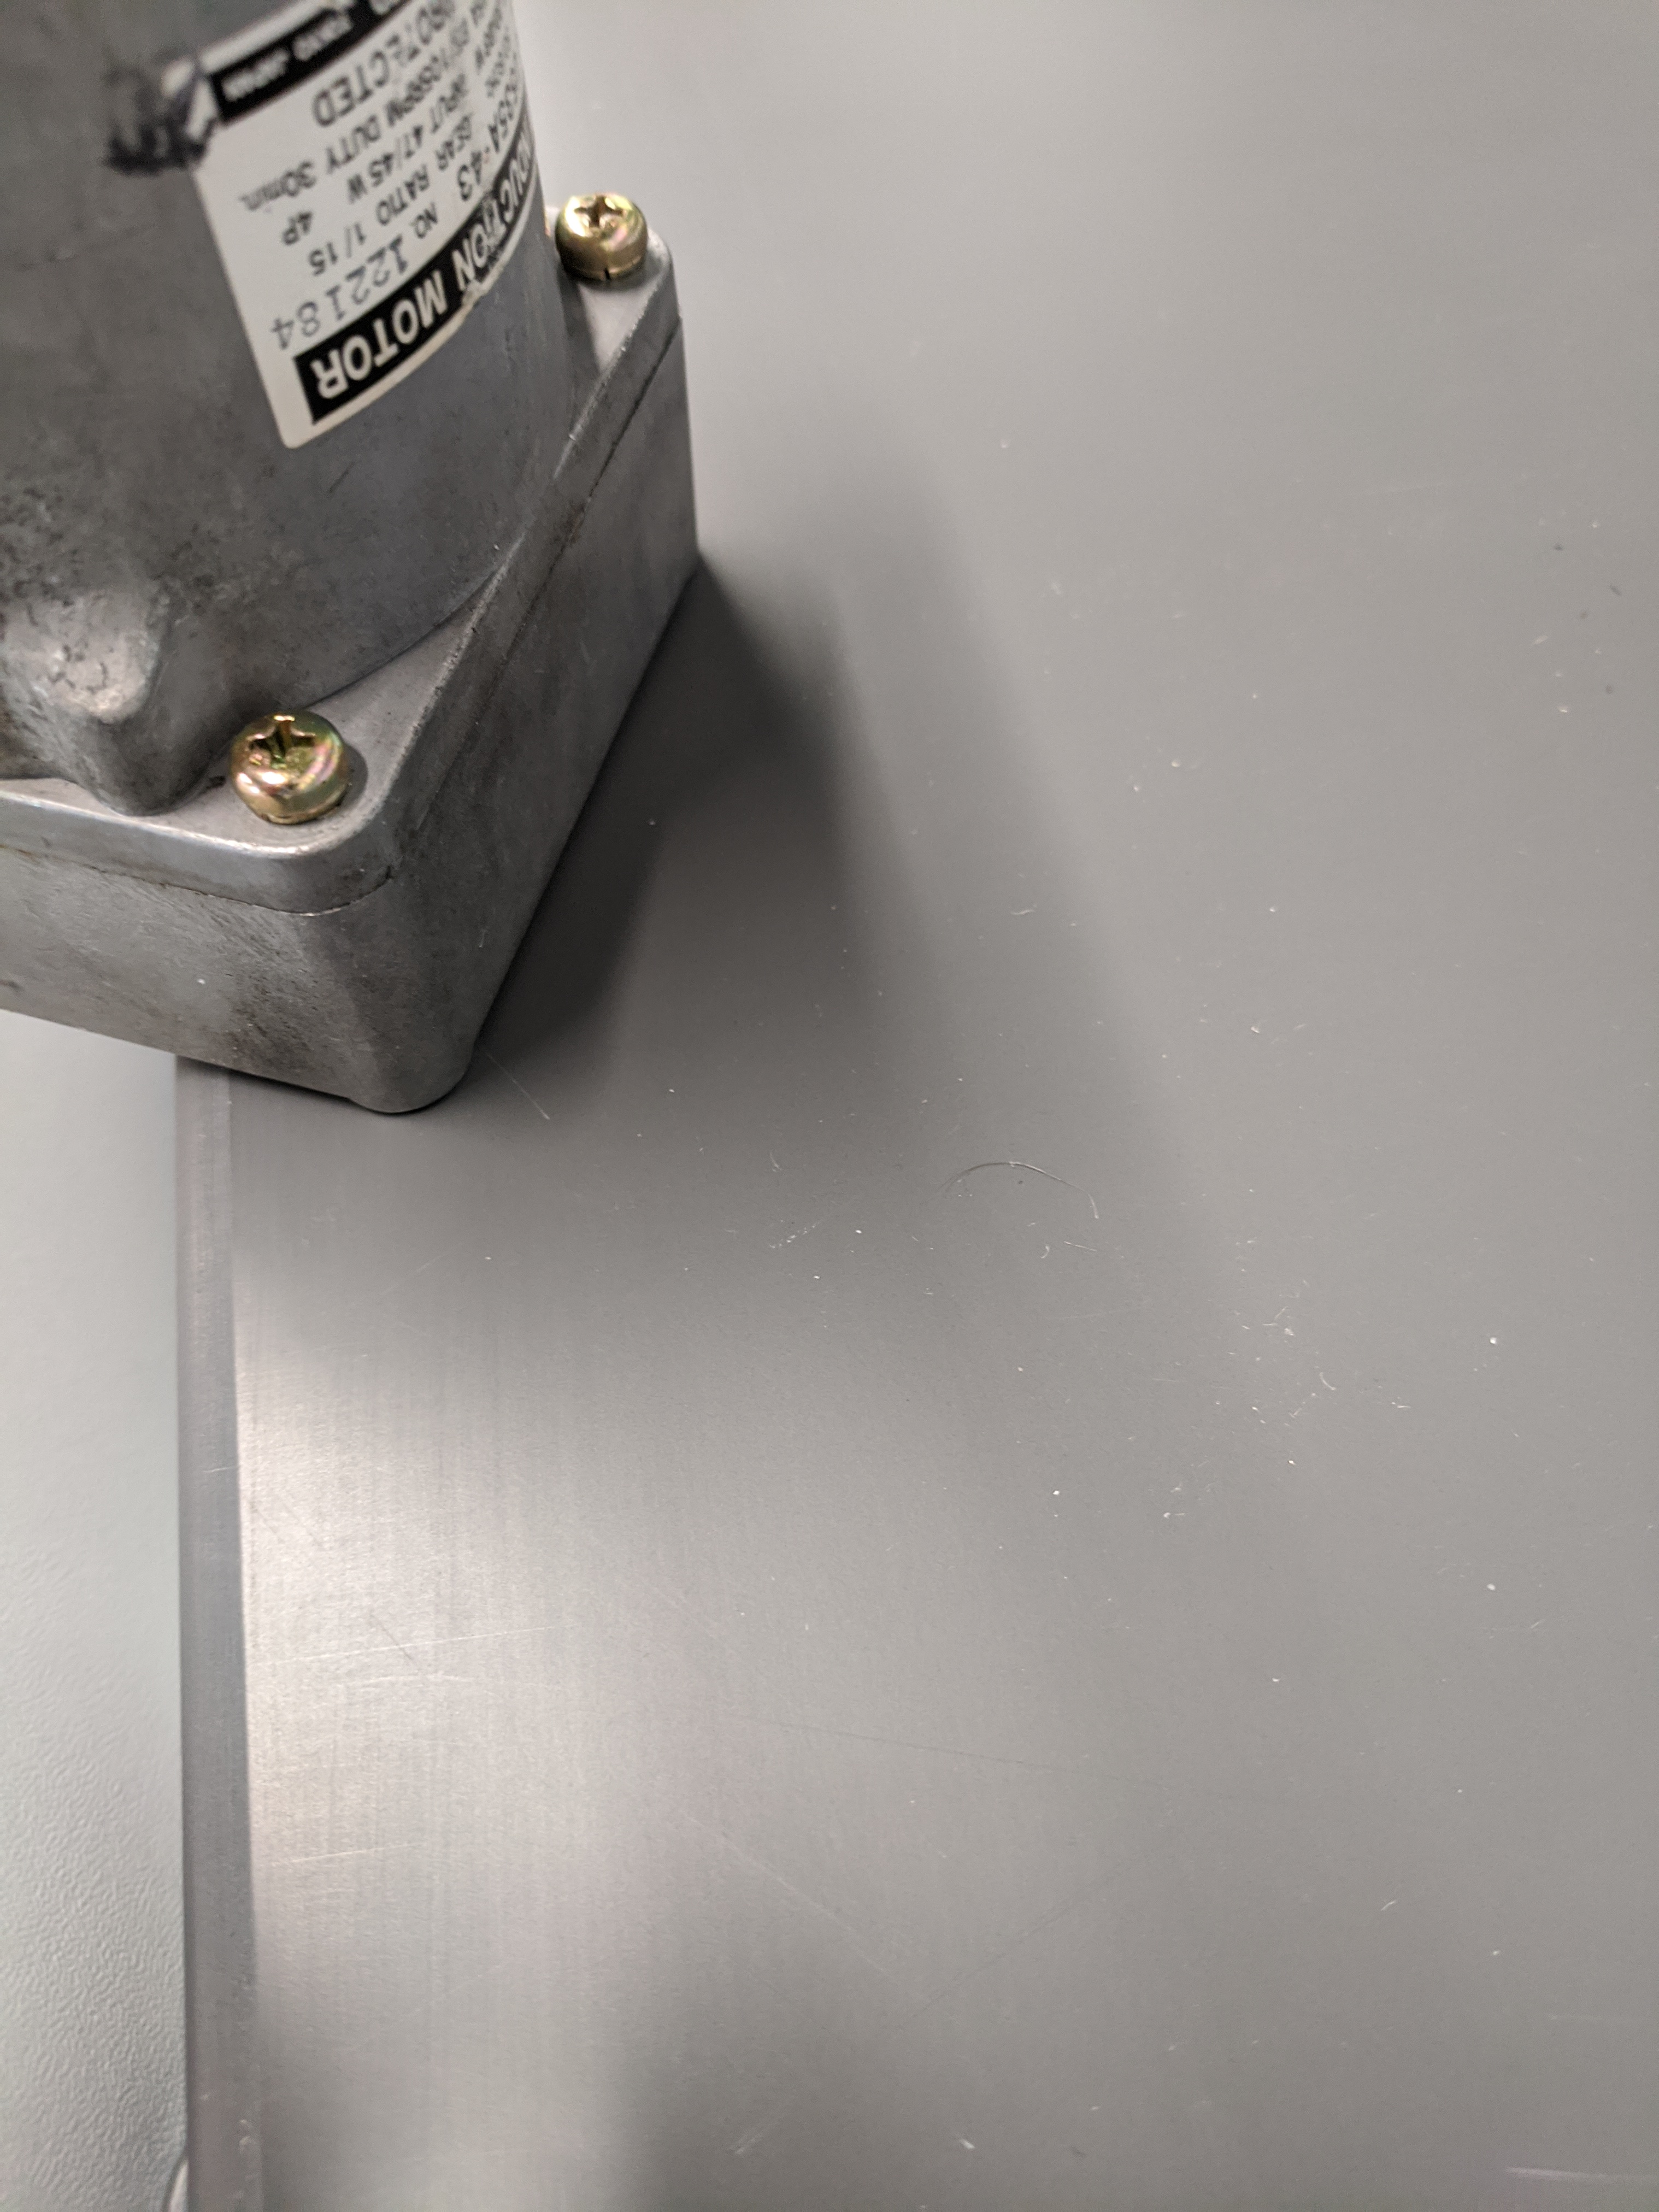cross_recessed_screw: (204, 685, 355, 833), (545, 162, 645, 265)
